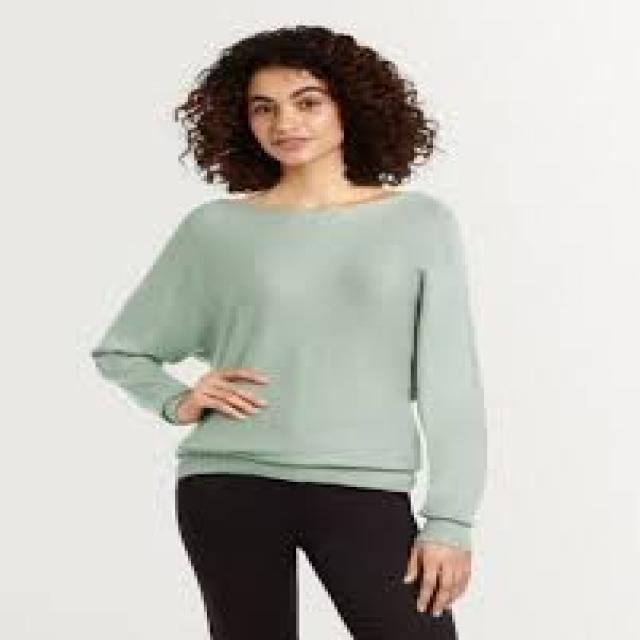plain: (85, 180, 496, 498)
